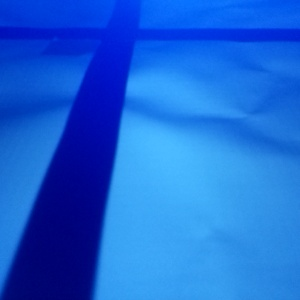top_right: (1, 192, 156, 300)
